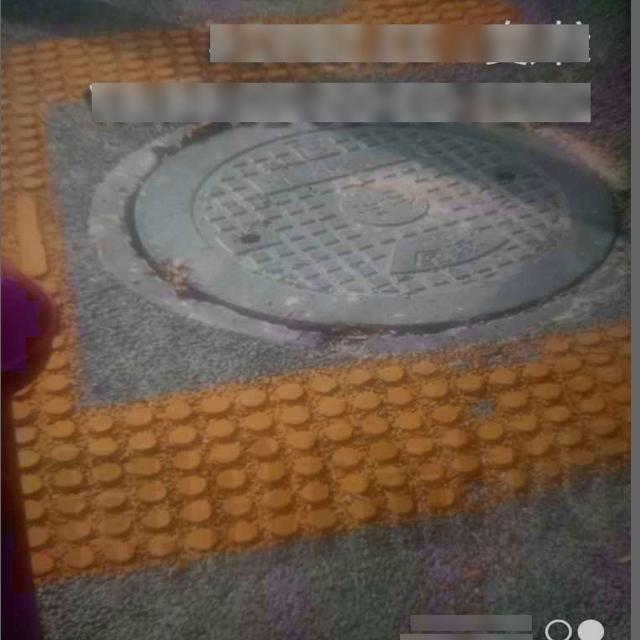good: (91, 60, 605, 352)
